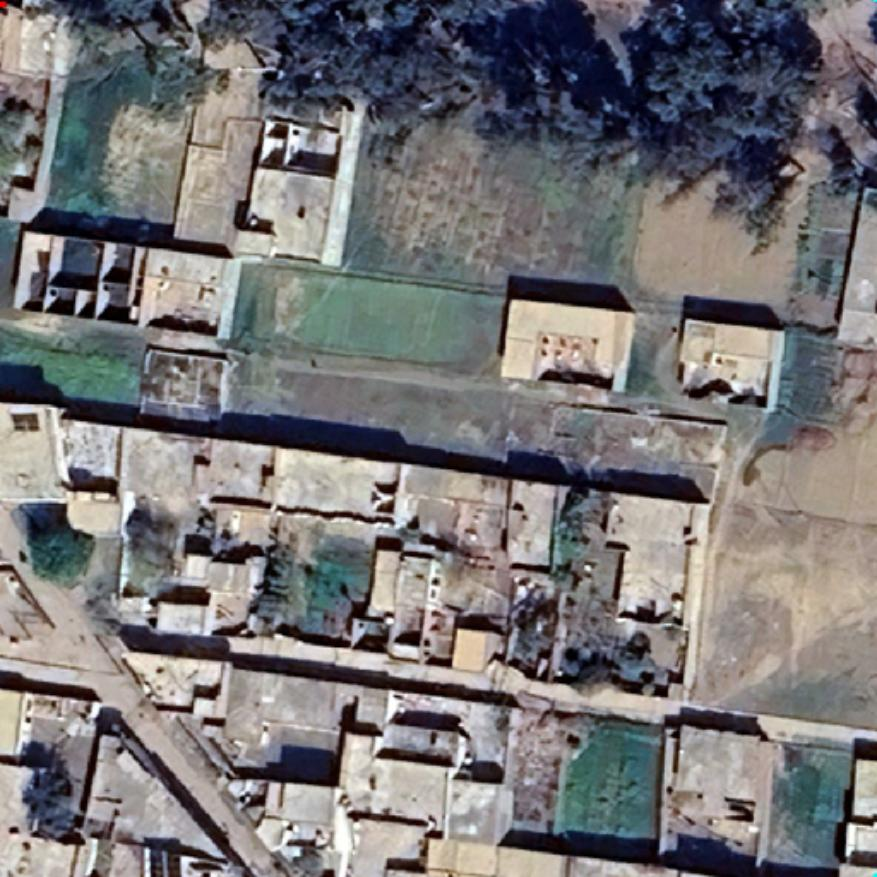Solarpanel: (146, 837, 186, 877), (7, 410, 48, 438)
